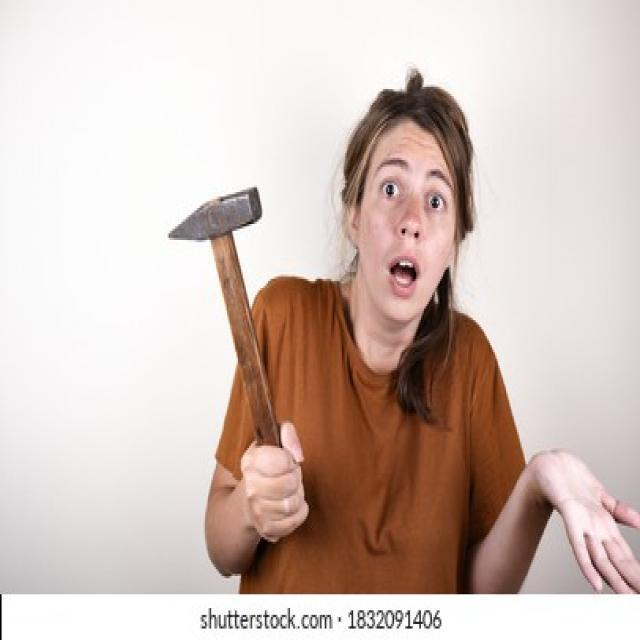hammer: (156, 172, 290, 458)
